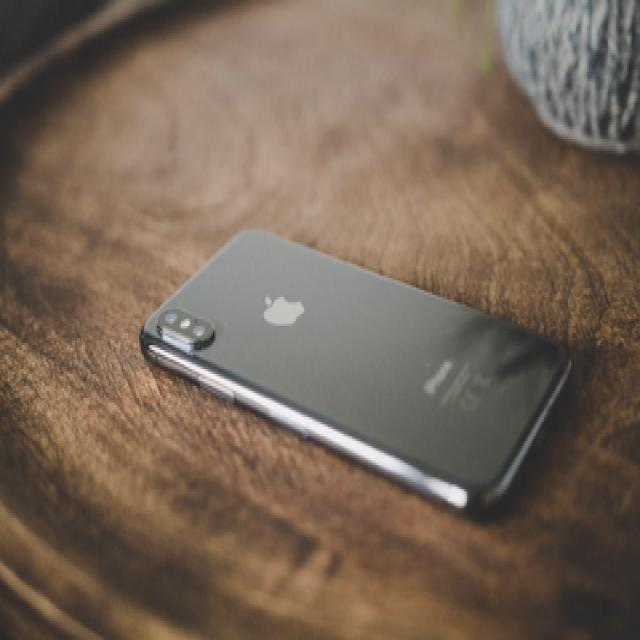cellphone: (138, 225, 571, 518)
